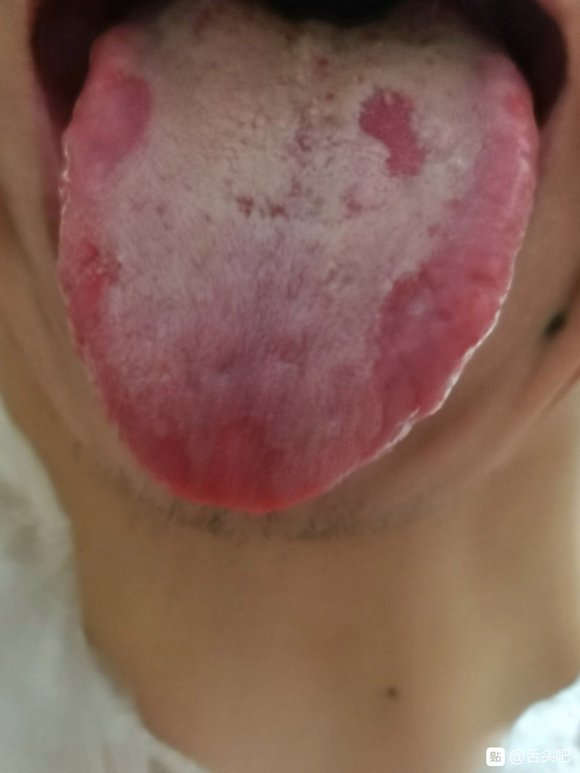baitaishe: (59, 3, 541, 515)
botaishe: (347, 40, 542, 453), (61, 53, 168, 201), (336, 72, 441, 194)
hongshe: (58, 3, 540, 515)
xinfeiao: (215, 3, 416, 45)
